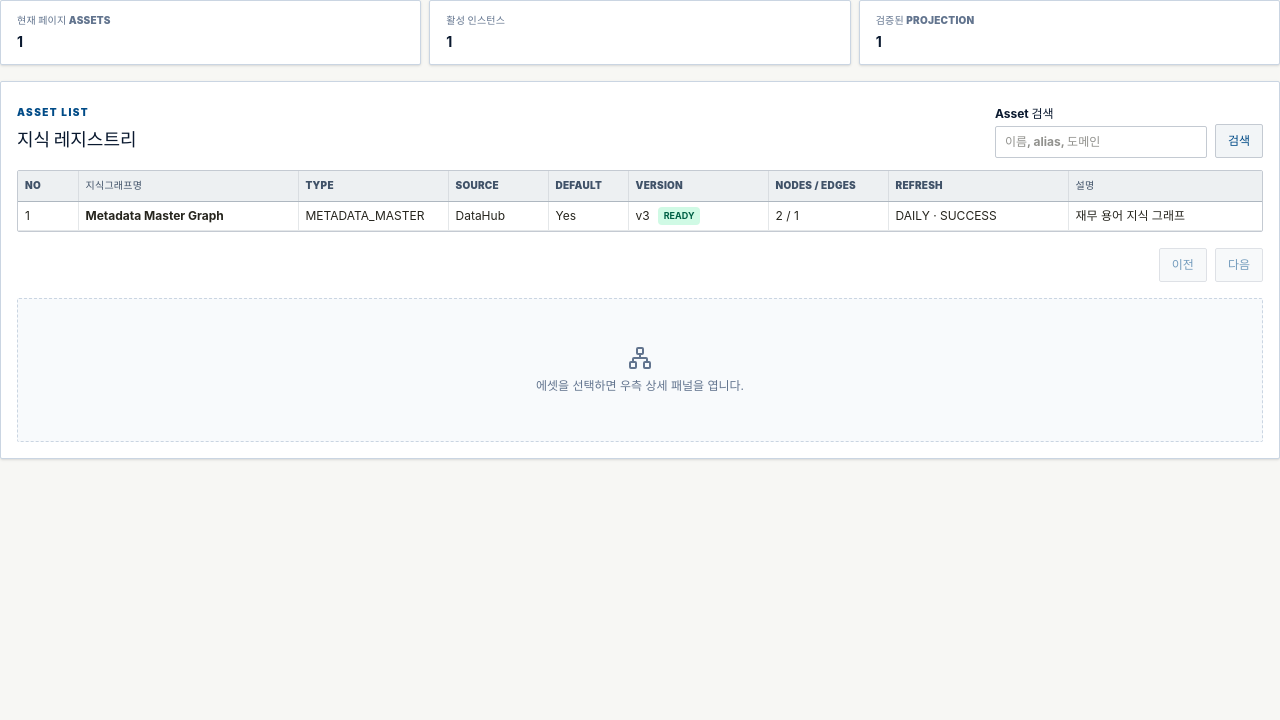
KnowledgeRegistry › shows the admin-only managed V2 snapshot and typed graph quality receipt
Click the text "Metadata Master Graph" at (155, 215), box left=86, top=208, right=224, bottom=223
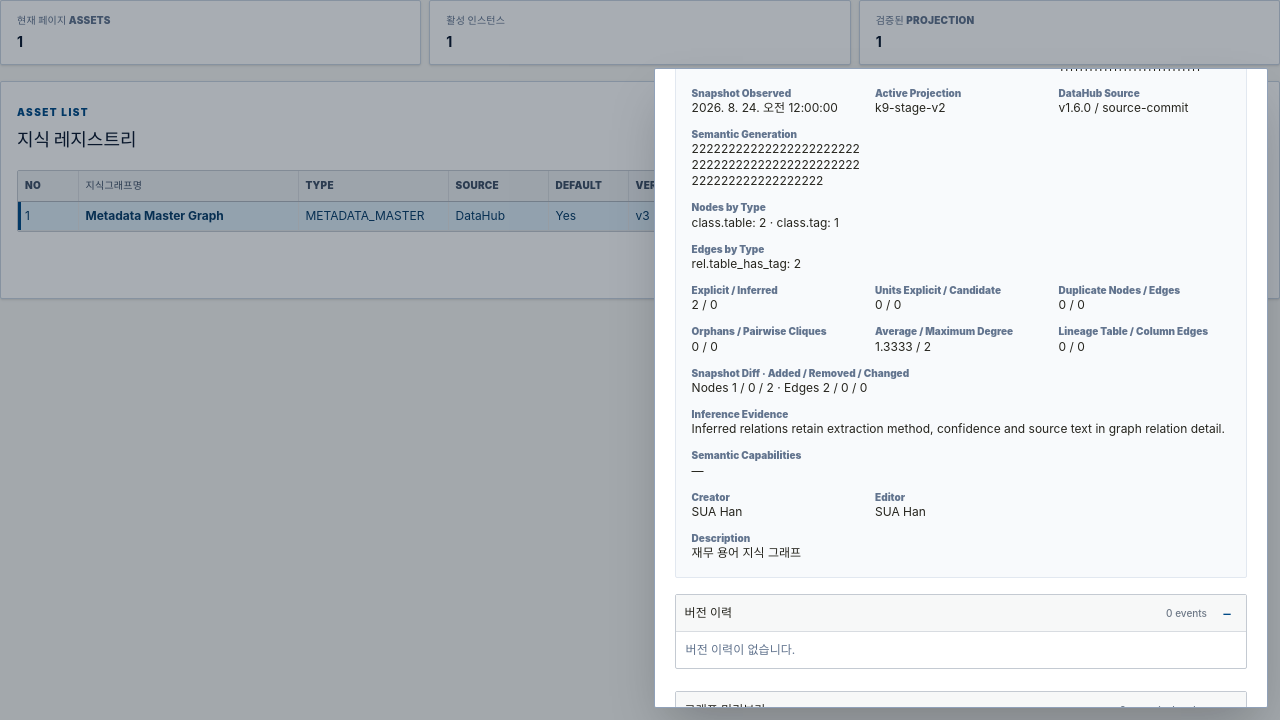
Expected: the text "class.table: 2 · class.tag: 1" is shown, left=692, top=215, right=839, bottom=230
Expected: the text "rel.table_has_tag: 2" is shown, left=692, top=256, right=801, bottom=271
Expected: the text "Nodes 1 / 0 / 2 · Edges 2 / 0 / 0" is shown, left=692, top=380, right=867, bottom=395
